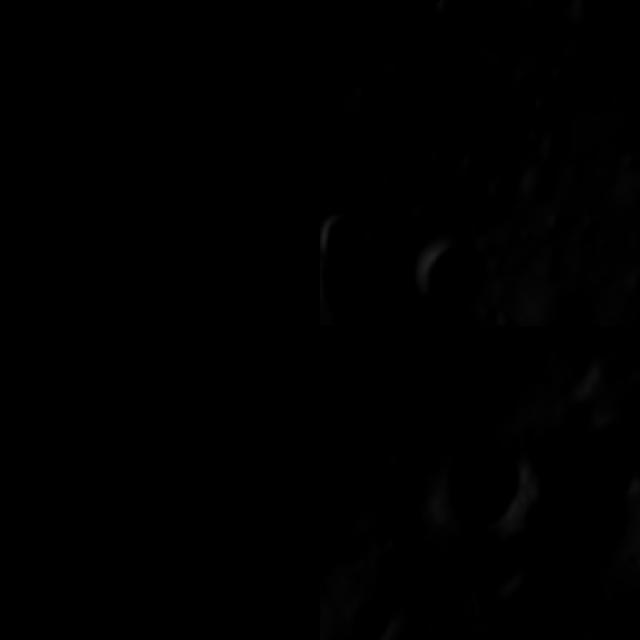crater: (320, 326, 628, 417), (515, 444, 640, 579), (443, 428, 537, 552), (411, 233, 497, 321), (320, 0, 411, 81), (148, 190, 239, 270), (320, 212, 384, 286), (91, 326, 154, 392), (24, 490, 84, 559), (92, 497, 148, 550), (258, 202, 312, 254), (348, 594, 408, 640), (382, 161, 426, 216), (540, 602, 598, 640), (218, 430, 262, 476), (19, 326, 62, 372), (424, 0, 478, 31), (467, 563, 507, 603), (182, 343, 221, 384), (236, 245, 274, 285), (165, 326, 234, 348), (356, 439, 402, 471), (609, 459, 640, 504), (523, 336, 559, 373), (423, 149, 457, 183), (528, 90, 562, 124), (84, 182, 117, 212), (225, 303, 258, 326), (616, 615, 640, 640), (336, 477, 361, 500), (462, 626, 503, 640)
